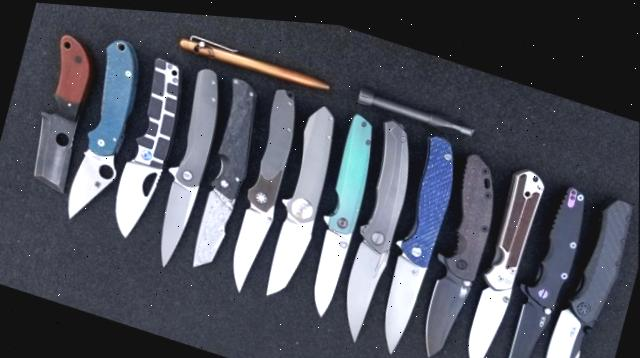pocket-knife: (323, 101, 425, 347), (367, 120, 463, 358), (408, 136, 508, 358), (141, 55, 233, 276), (491, 161, 594, 358), (256, 89, 349, 307), (531, 171, 639, 358), (454, 149, 549, 358), (219, 75, 307, 298), (181, 65, 270, 277), (297, 101, 383, 320), (102, 44, 194, 248), (60, 28, 151, 232), (19, 26, 104, 198)
